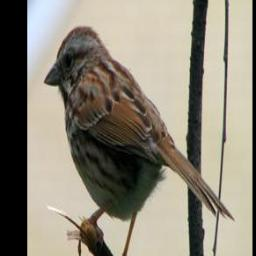Sparrow: (44, 21, 237, 256)
